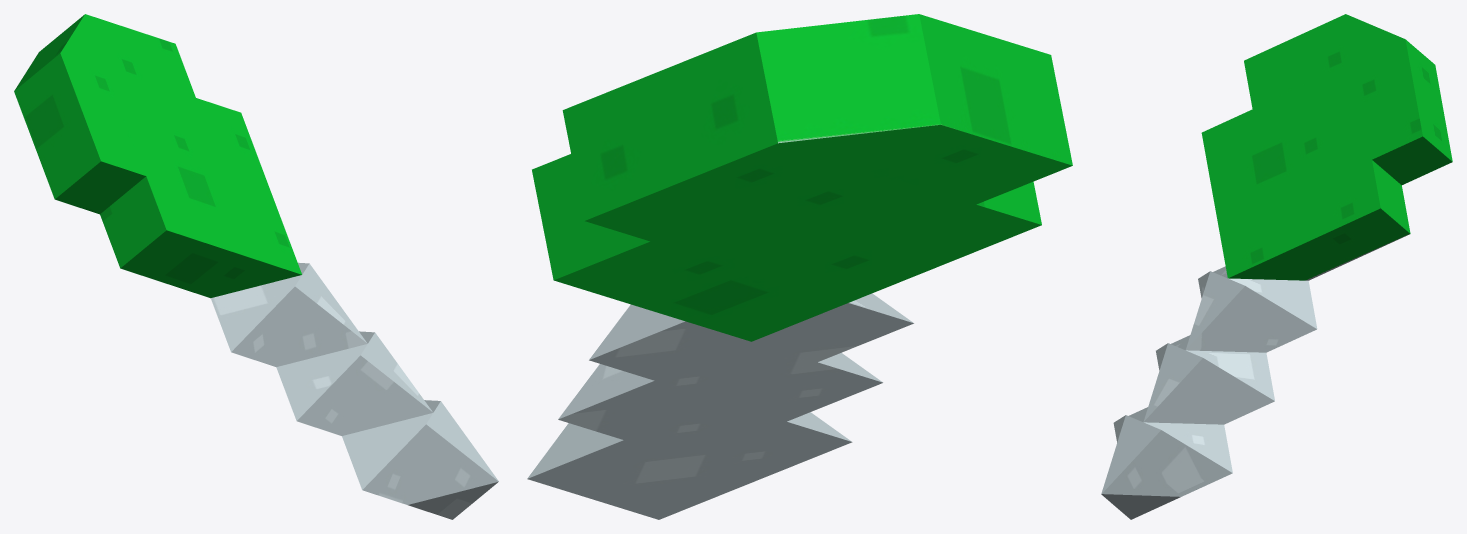
File: C1_Key for little prince_s spaceship.FBX
The picture shows the model from 3 angles, left to right: view 1: azimuth 30°, elevation 25°; view 2: azimuth 150°, elevation 25°; view 3: azimuth 270°, elevation 25°; orthographic projection. The views are drawn at different scales.
Visible parts, largest first — view 1: Box002, Group001; view 2: Box002, Group001; view 3: Box002, Group001.
Boxes of the visible parts, left/top/right/bottom form: Box002: left=14, top=14, right=301, bottom=298; Group001: left=211, top=262, right=498, bottom=519; Box002: left=532, top=14, right=1072, bottom=341; Group001: left=527, top=293, right=913, bottom=519; Box002: left=1201, top=14, right=1452, bottom=280; Group001: left=1101, top=266, right=1317, bottom=519.
Size of the model in its own units: 34.79 by 42.56 by 34.78.
1 material, 1 textured.
